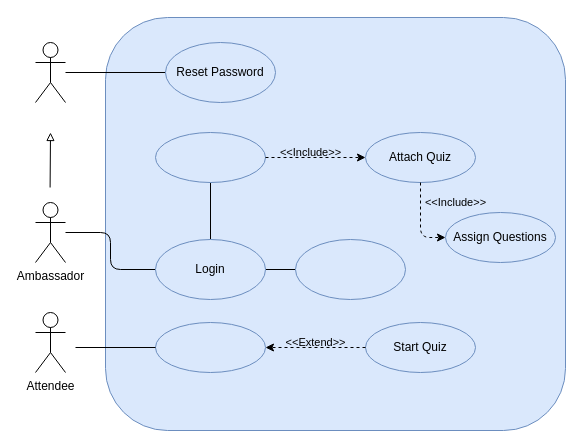
This 583x448 diagram has some shape labels left out. Here are the shapes that lost their labels. From the top down, the centre of each, then its label:
At [50,72]: "User".
At [210,157]: "Make Event".
At [350,269]: "View Event".
At [210,347]: "Join Event".
